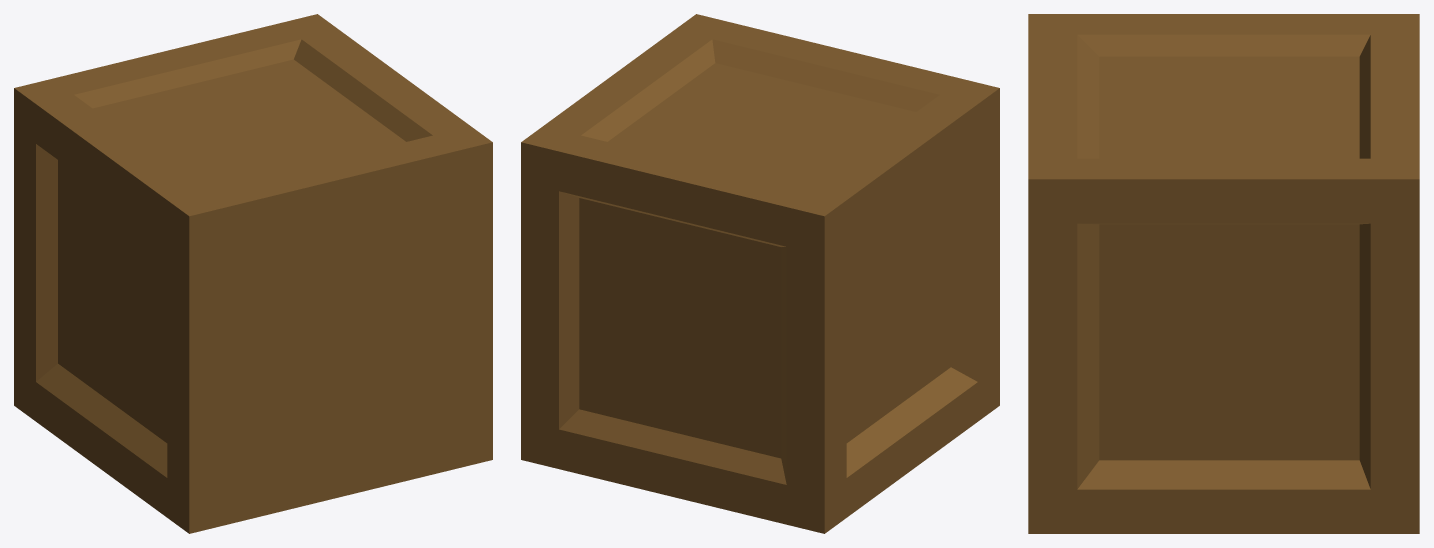
Rendered from Crate2.fbx.
3 views of the same model, side by side, from view 1: azimuth 30°, elevation 25°; view 2: azimuth 150°, elevation 25°; view 3: azimuth 270°, elevation 25° (orthographic). The views are drawn at different scales.
Parts seen in each view (by area): view 1: Plane.018; view 2: Plane.018; view 3: Plane.018.
Boxes of the visible parts, bbox=[...] form: Plane.018: bbox=[14, 14, 492, 533]; Plane.018: bbox=[521, 14, 999, 533]; Plane.018: bbox=[1028, 14, 1419, 533].
Size of the model in its own units: 100 by 100 by 100.
